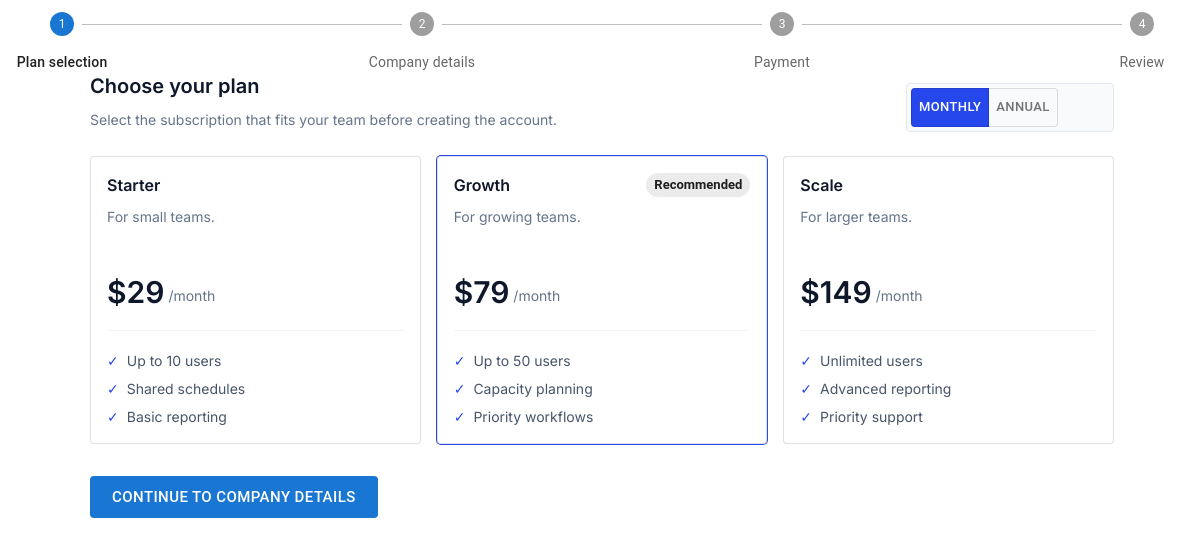
Scenario: registration contract › shows the four-step flow and preserves account details before payment succeeds
Expected: the text "Plan selection" is shown, [17, 54, 107, 70]
Expected: the text "Company details" is shown, [369, 54, 475, 70]
Click the button "Continue to company details": (234, 497) [90, 476, 378, 518]
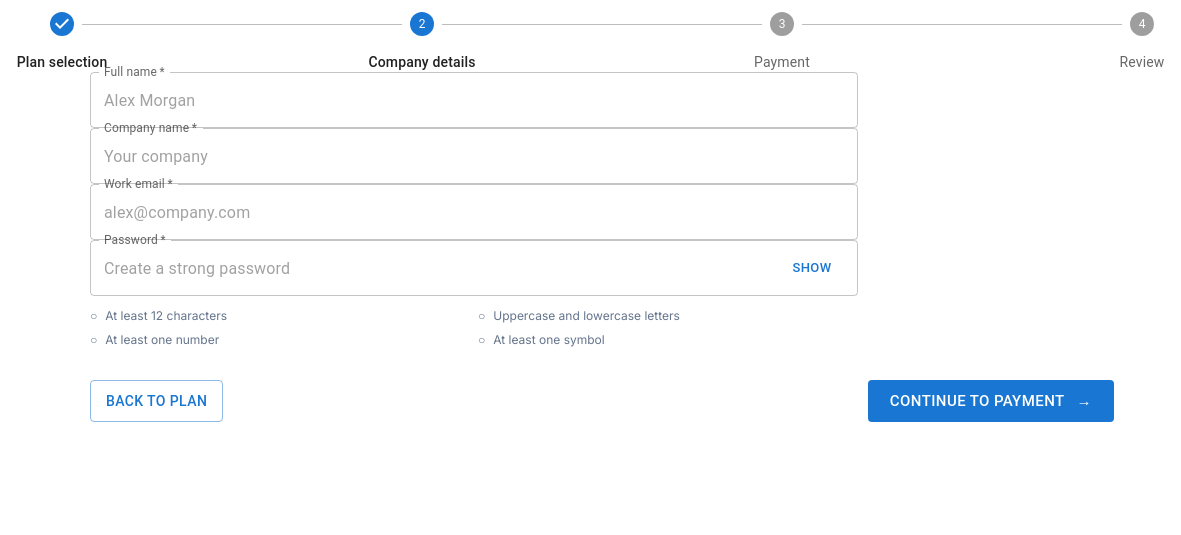
In the field labelled "Full name *": (474, 100) [90, 72, 858, 128], type "Alex Test"
In the field labelled "Company name *": (474, 156) [90, 128, 858, 184], type "Example"
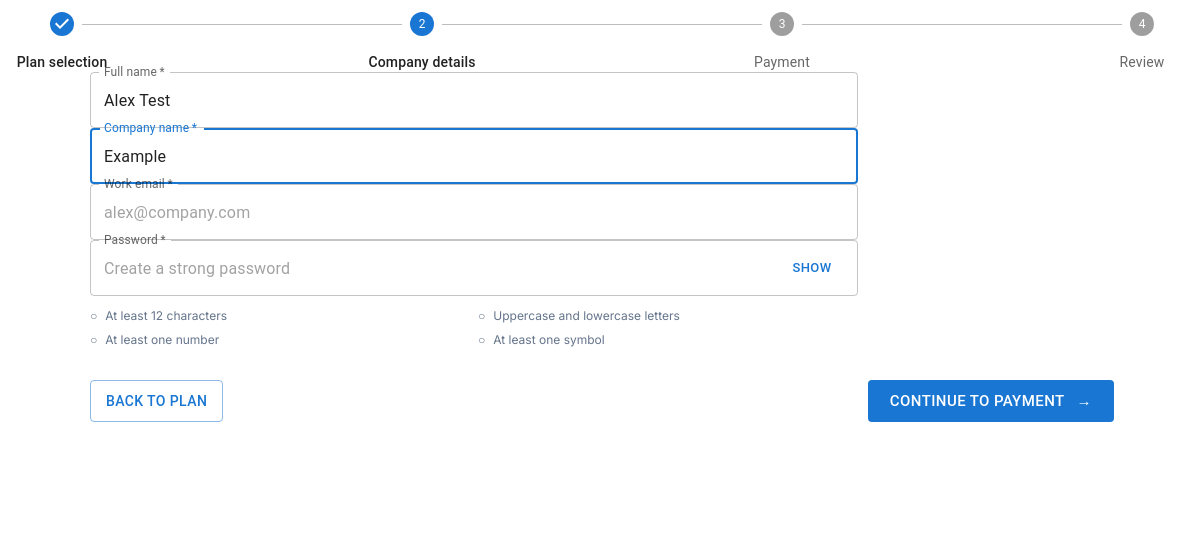
In the field labelled "Work email *": (474, 212) [90, 184, 858, 240], type "alex@example.com"
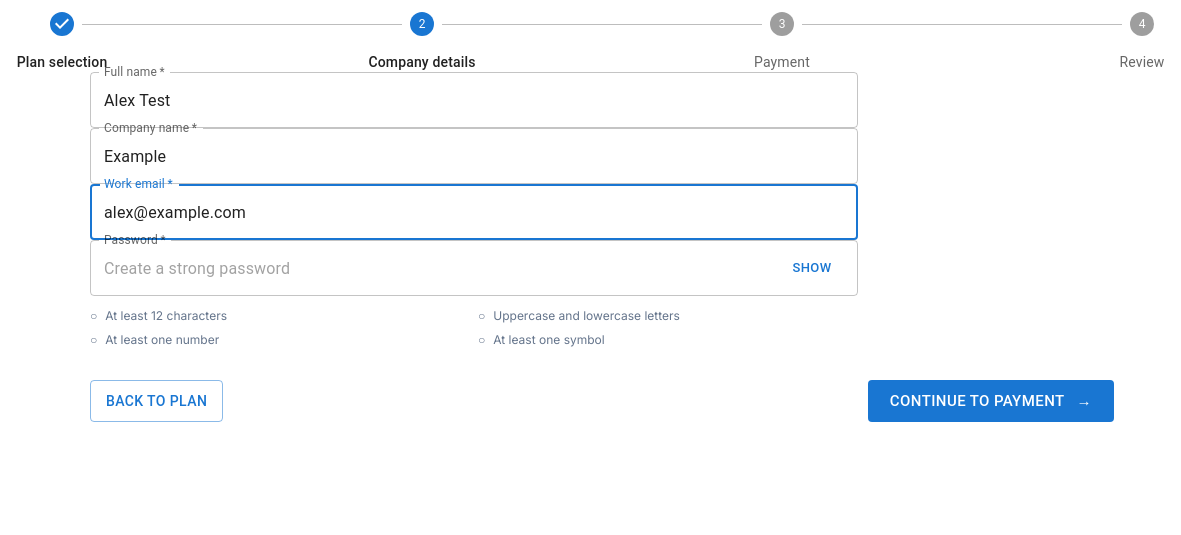
In the field labelled "Password *": (431, 268) [90, 240, 772, 296], type "DemoPassword123!"
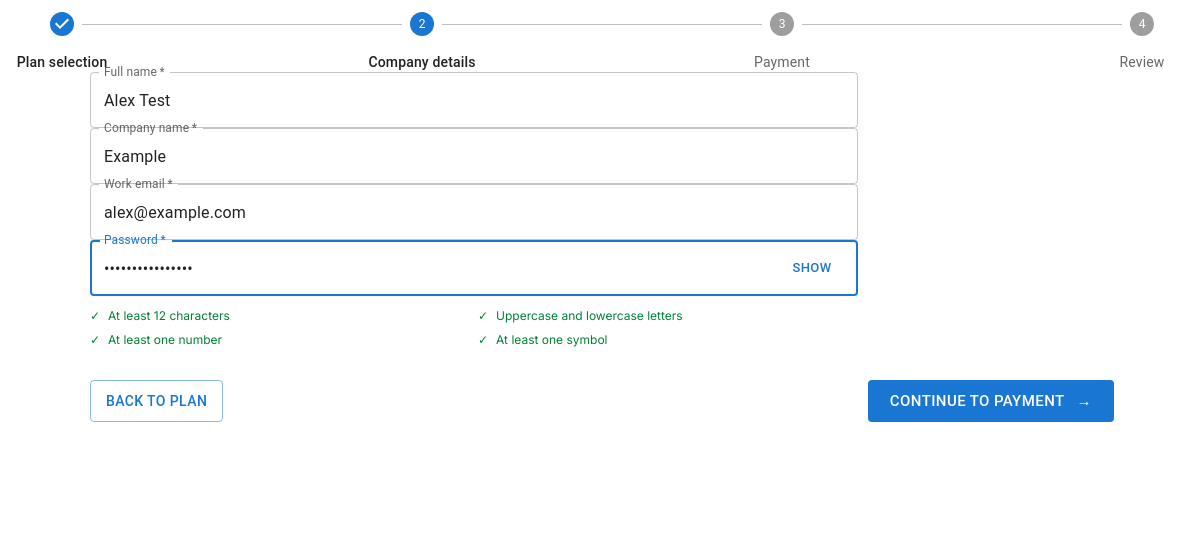
Click the button "Back to plan": (157, 401) [90, 380, 223, 422]
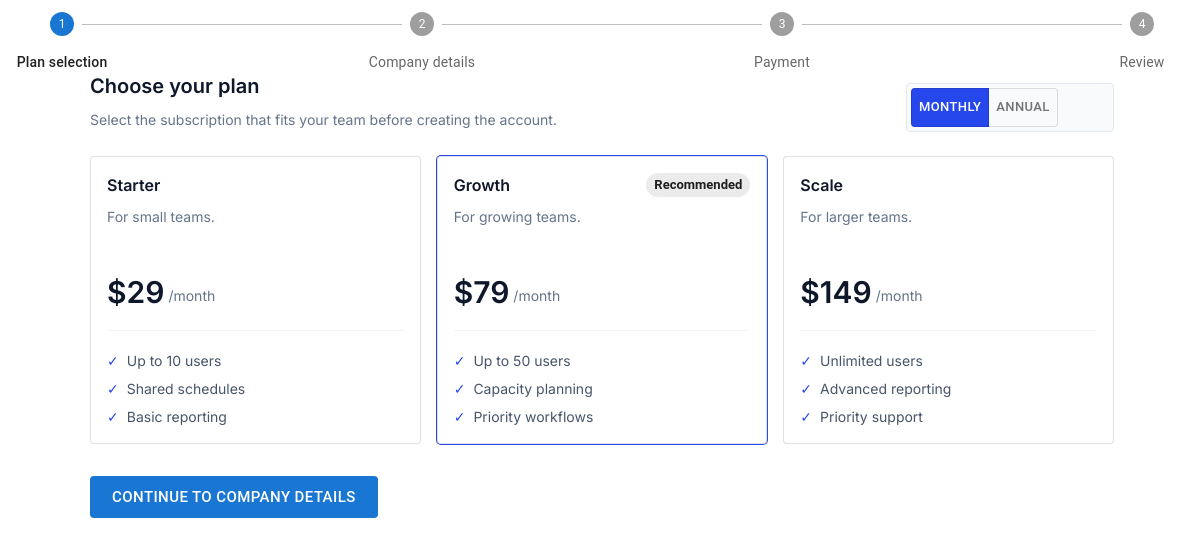
Click the button "Continue to company details": (234, 497) [90, 476, 378, 518]
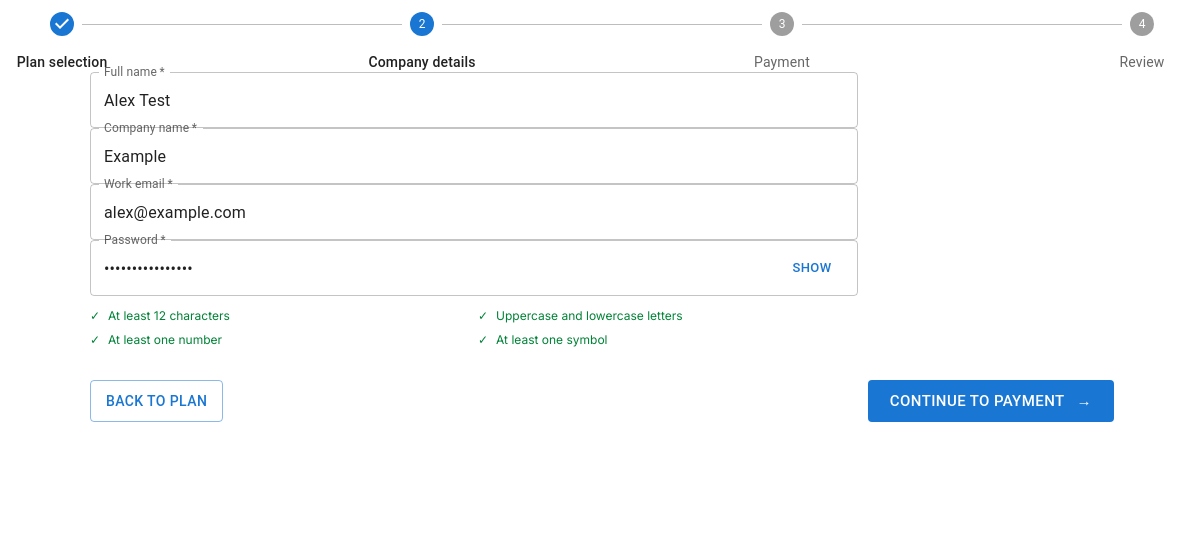
Expected: the field labelled "Full name *" holds "Alex Test", [90, 72, 858, 128]
Expected: the field labelled "Company name *" holds "Example", [90, 128, 858, 184]
Expected: the field labelled "Work email *" holds "alex@example.com", [90, 184, 858, 240]
